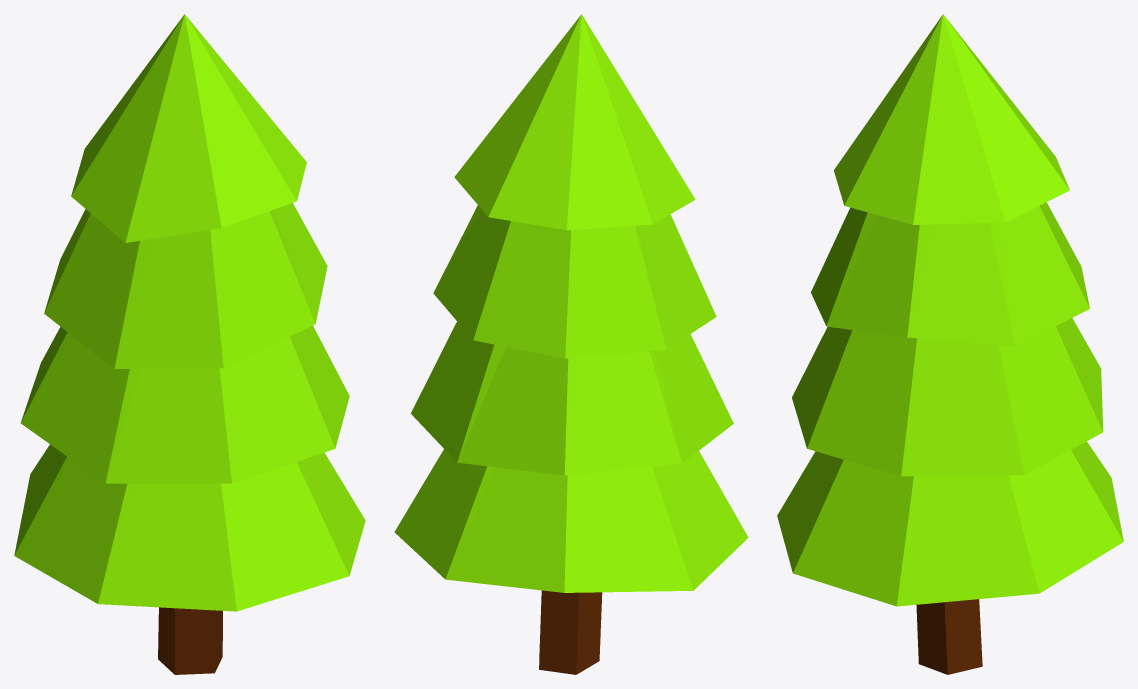
The model's file is 3D_NormalTree_002.FBX.
3 renders of one model, left to right at view 1: azimuth 30°, elevation 25°; view 2: azimuth 150°, elevation 25°; view 3: azimuth 270°, elevation 25°, orthographic. The views are drawn at different scales.
Visible parts, largest first — view 1: Leaves, Trunk; view 2: Leaves, Trunk; view 3: Leaves, Trunk.
Part boxes in pixels (left/top/right/bottom): Leaves: left=14, top=14, right=365, bottom=611; Trunk: left=158, top=607, right=222, bottom=674; Leaves: left=394, top=14, right=748, bottom=592; Trunk: left=539, top=590, right=602, bottom=674; Leaves: left=777, top=14, right=1123, bottom=606; Trunk: left=916, top=599, right=982, bottom=674.
Size of the model in its own units: 212 by 217 by 443.
